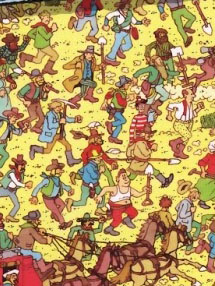waldo: (135, 95, 148, 112)
